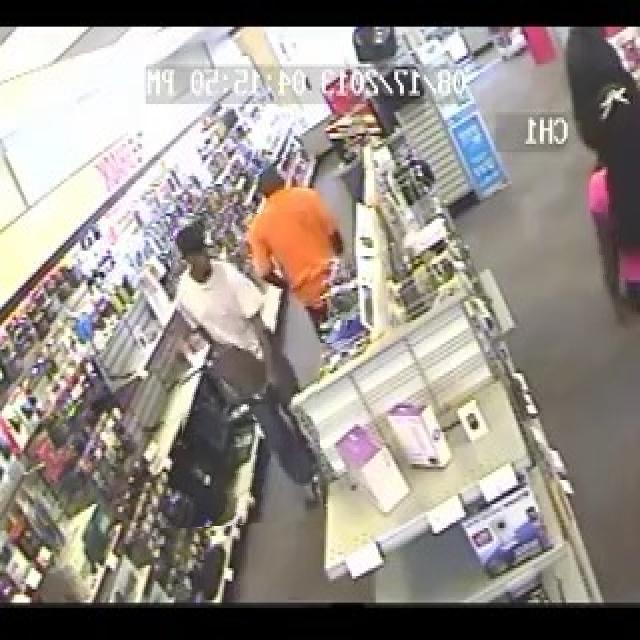normal: (173, 213, 320, 526), (252, 159, 351, 343), (586, 71, 640, 336)
